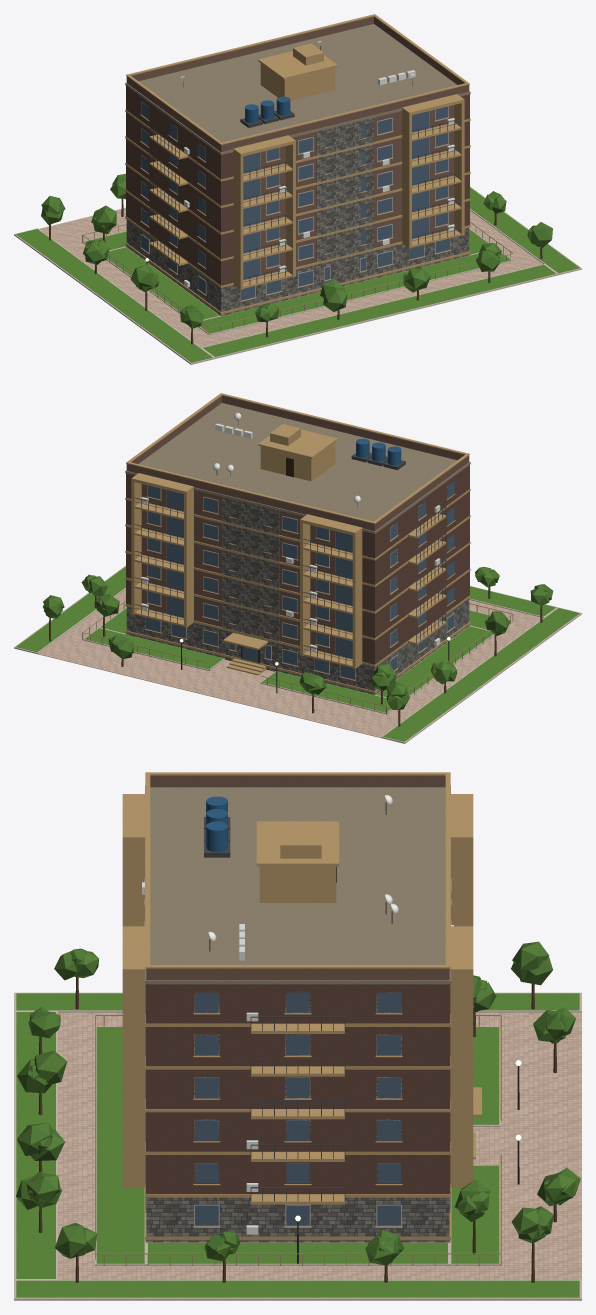
Rendered from residence.glb.
The picture shows the model from 3 angles, top to bottom: view 1: azimuth 30°, elevation 25°; view 2: azimuth 150°, elevation 25°; view 3: azimuth 270°, elevation 25°; orthographic projection. The views are drawn at different scales.
Visible parts, largest first — view 1: roof-roof-concrete-0, site-lawn-2, site-paving-0, ground-stone-cladding-0, site-tree-leaves-5, roof-beige-render-2, roof-brown-render-1, floor-5-beige-render-0, site-kerb-1, floor-3-beige-render-0, floor-4-beige-render-0, floor-2-beige-render-0 (+31 smaller); view 2: roof-roof-concrete-0, site-paving-0, site-lawn-2, roof-beige-render-2, ground-stone-cladding-0, roof-brown-render-1, site-tree-leaves-5, floor-5-beige-render-0, floor-4-beige-render-0, floor-3-beige-render-0, floor-1-beige-render-0, floor-2-beige-render-0 (+33 smaller); view 3: roof-roof-concrete-0, site-lawn-2, site-paving-0, site-tree-leaves-5, roof-beige-render-2, floor-5-dark-render-3, floor-5-beige-render-0, ground-stone-cladding-0, floor-2-dark-render-3, floor-4-dark-render-3, floor-3-dark-render-3, floor-1-dark-render-3 (+16 smaller).
Part boxes in pixels (x1,y1,x2,y2): roof-roof-concrete-0: [125, 24, 470, 154]; site-lawn-2: [16, 187, 579, 362]; site-paving-0: [14, 207, 581, 364]; ground-stone-cladding-0: [126, 219, 469, 315]; site-tree-leaves-5: [41, 173, 552, 328]; roof-beige-render-2: [126, 14, 469, 144]; roof-brown-render-1: [126, 16, 469, 152]; floor-5-beige-render-0: [125, 94, 470, 183]; site-kerb-1: [14, 186, 581, 364]; floor-3-beige-render-0: [125, 155, 470, 236]; floor-4-beige-render-0: [125, 129, 470, 209]; floor-2-beige-render-0: [125, 182, 470, 263]; roof-roof-concrete-0: [125, 403, 470, 533]; site-paving-0: [14, 589, 581, 743]; site-lawn-2: [16, 566, 579, 741]; roof-beige-render-2: [126, 393, 469, 523]; ground-stone-cladding-0: [126, 598, 469, 694]; roof-brown-render-1: [126, 395, 469, 531]; site-tree-leaves-5: [42, 567, 553, 709]; floor-5-beige-render-0: [125, 473, 470, 562]; floor-4-beige-render-0: [125, 508, 470, 588]; floor-3-beige-render-0: [125, 534, 470, 615]; floor-1-beige-render-0: [125, 588, 470, 668]; floor-2-beige-render-0: [125, 561, 470, 642]; roof-roof-concrete-0: [145, 785, 450, 984]; site-lawn-2: [16, 993, 579, 1297]; site-paving-0: [14, 1012, 581, 1300]; site-tree-leaves-5: [16, 941, 580, 1265]; roof-beige-render-2: [145, 772, 450, 968]; floor-5-dark-render-3: [145, 984, 450, 1023]; floor-5-beige-render-0: [122, 794, 473, 1033]; ground-stone-cladding-0: [145, 1197, 450, 1242]; floor-2-dark-render-3: [145, 1112, 450, 1151]; floor-4-dark-render-3: [145, 1027, 450, 1066]; floor-3-dark-render-3: [145, 1069, 450, 1108]; floor-1-dark-render-3: [145, 1155, 450, 1193].
Size of the model in its own units: 49.25 by 23.9 by 38.62.
Materials: 19 (7 with a texture image).
